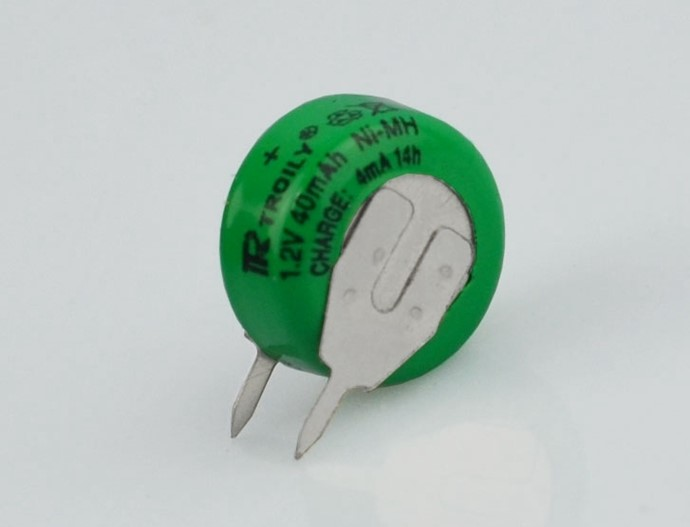Battery: (208, 83, 517, 470)
